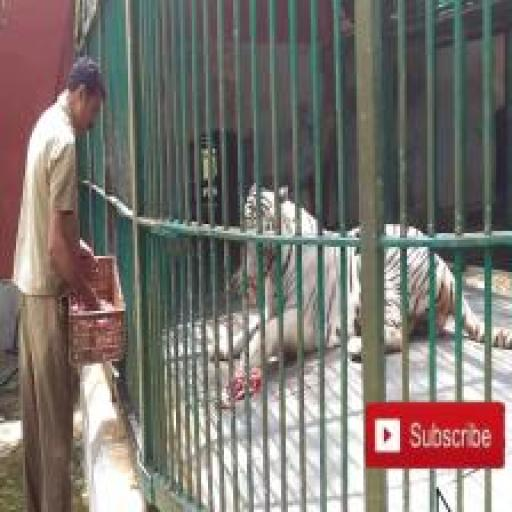Tiger: (208, 183, 511, 372)
